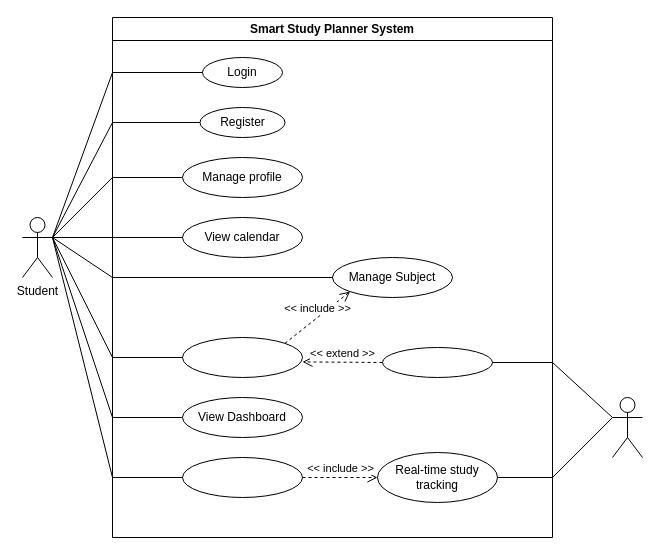
Image size: 665x555. Some labels were removed from this diagram. Each missing label, with the box of its shape:
Focus space: (182, 456, 302, 498)
Manage Task: (182, 336, 302, 378)
Set reminder: (382, 346, 492, 378)
System: (612, 396, 642, 458)
